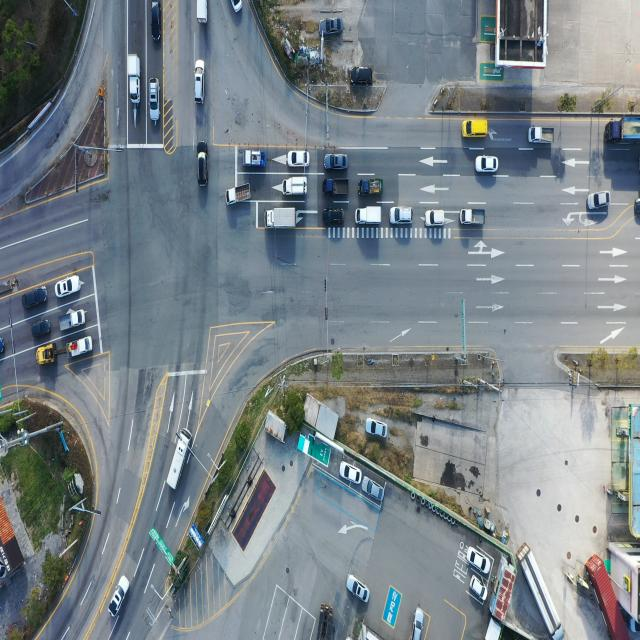car: (108, 577, 128, 619), (347, 574, 370, 603), (57, 275, 81, 298), (470, 548, 491, 574), (468, 576, 488, 603), (364, 479, 386, 503), (464, 118, 489, 138), (364, 418, 387, 439), (341, 462, 362, 485), (21, 288, 45, 308), (351, 66, 374, 86), (148, 81, 159, 122), (412, 608, 426, 640), (320, 18, 343, 37), (196, 61, 206, 104), (150, 0, 160, 43), (286, 149, 309, 167), (588, 192, 611, 210), (324, 155, 348, 172), (477, 157, 499, 175), (390, 207, 412, 225), (199, 150, 209, 188), (325, 209, 346, 226), (32, 320, 52, 337), (425, 210, 445, 227), (230, 0, 242, 15), (0, 338, 5, 359)
medium_truck: (520, 542, 566, 638), (605, 118, 640, 145), (264, 206, 299, 229), (318, 604, 336, 640)
small_bus: (168, 430, 195, 496)
small_truck: (128, 54, 142, 104), (60, 309, 85, 332), (226, 184, 253, 205), (67, 337, 92, 359), (322, 177, 350, 196), (355, 207, 382, 226), (528, 126, 555, 145), (282, 177, 307, 196), (459, 208, 484, 226), (244, 151, 267, 169), (360, 178, 383, 195), (198, 0, 210, 24)
